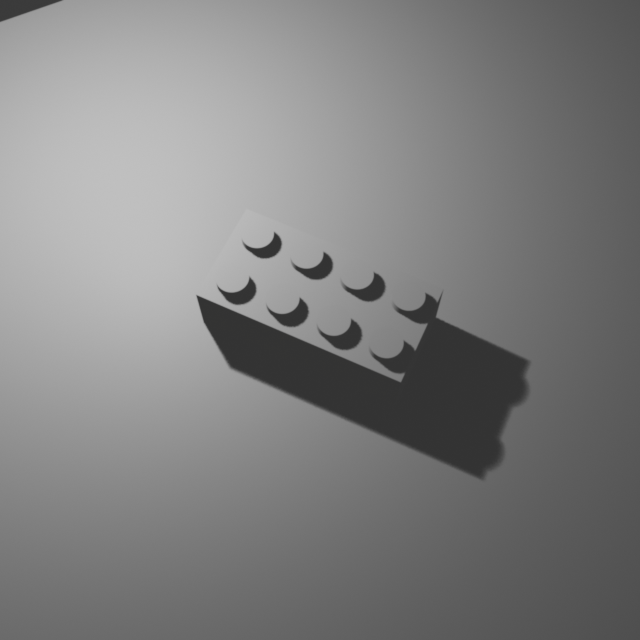lego_2x4: (194, 203, 445, 406)
